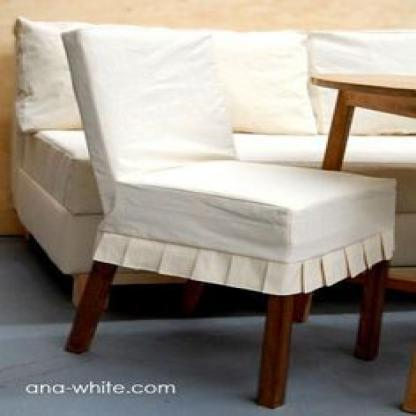chair: (47, 19, 401, 412)
sofa: (10, 10, 416, 316)
table: (304, 62, 416, 416)
